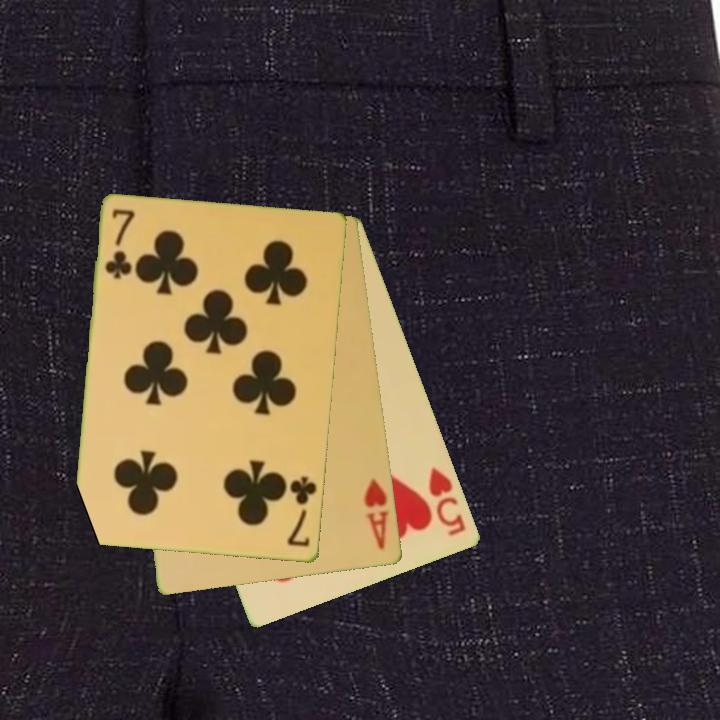5h: (425, 464, 469, 539)
7c: (284, 473, 320, 550), (102, 206, 138, 282)
Ah: (361, 476, 392, 553)
